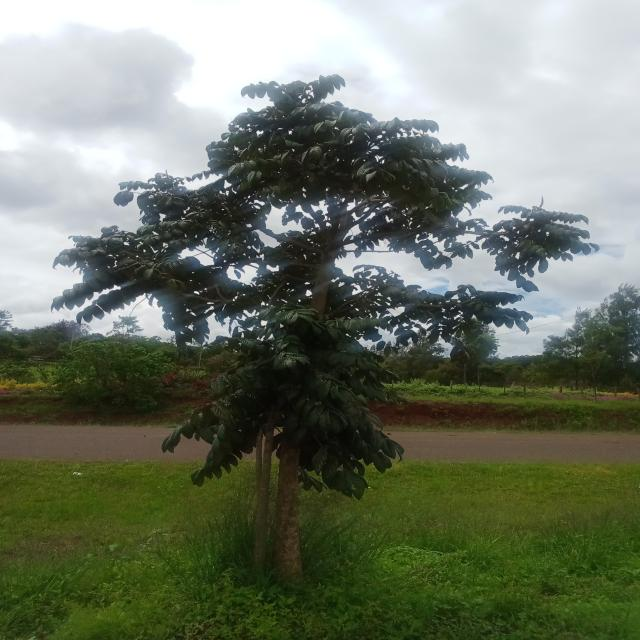Polyscias Kikuyensis: (41, 69, 609, 614)
